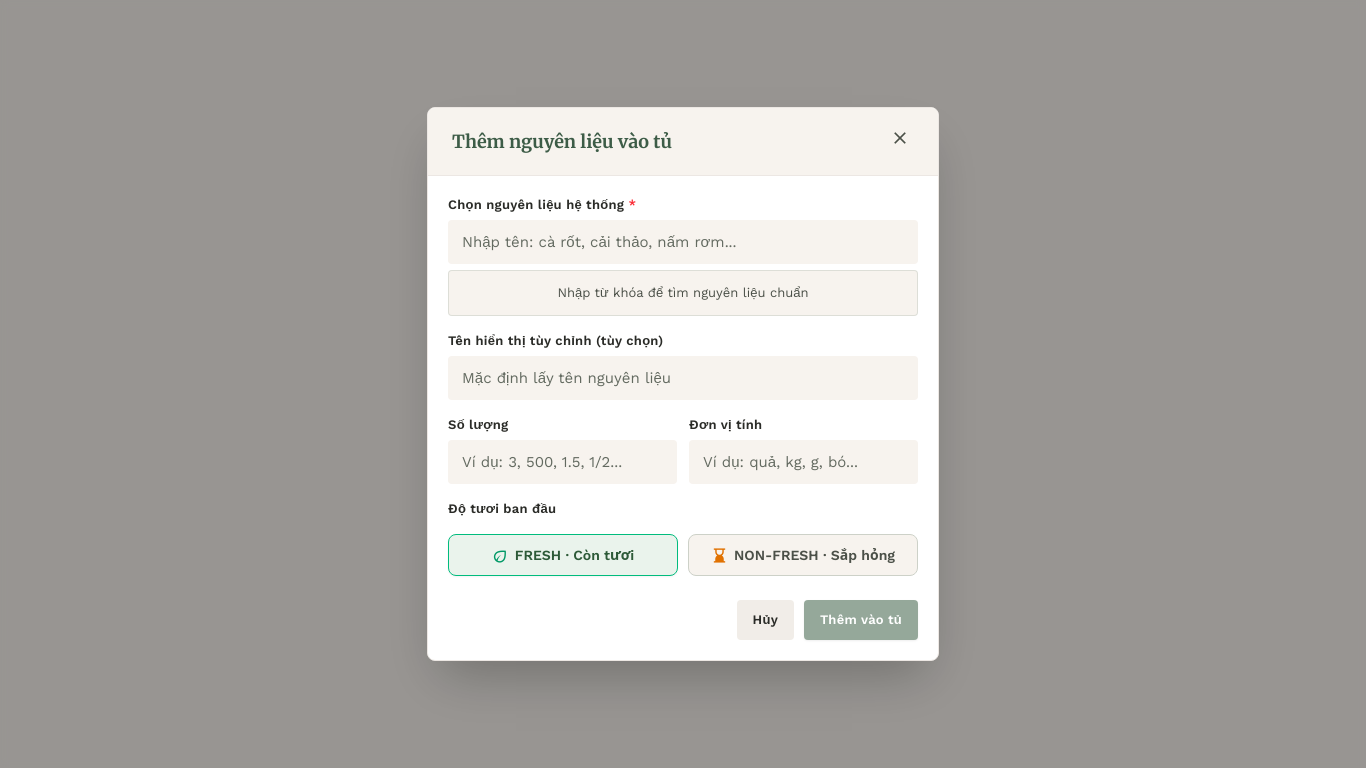
Test: AddItemModal: gợi ý nguyên liệu › từ khóa không có trong danh mục: không hiện nguyên liệu nào, cho dùng tên vừa nhập
In the field labelled "Chọn nguyên liệu hệ thống *": (683, 242) [448,220,918,264], type "cơm"
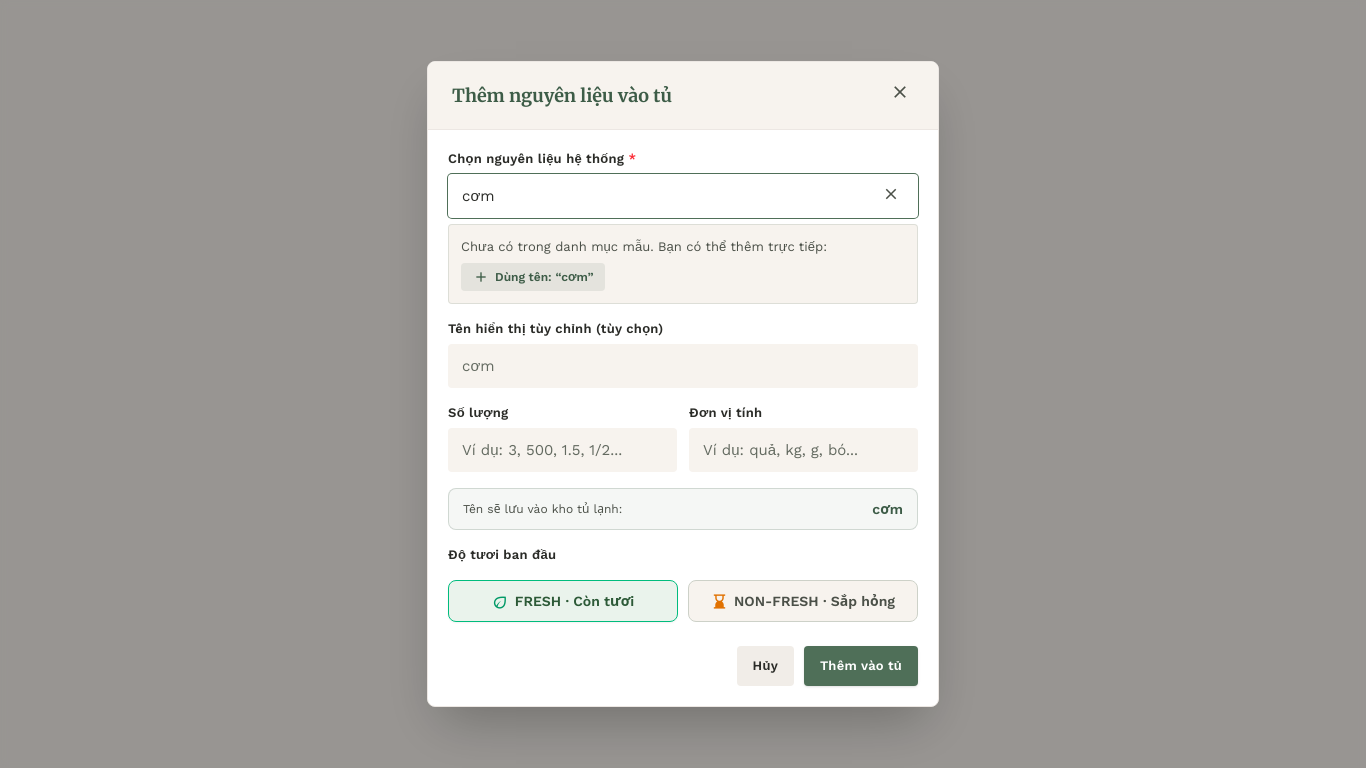
Expected: the button "Dùng tên: “cơm”" is shown, [461,263,606,291]
